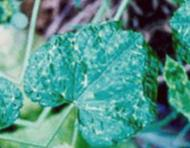Tomato leaf mosaic virus: (16, 4, 180, 148)
